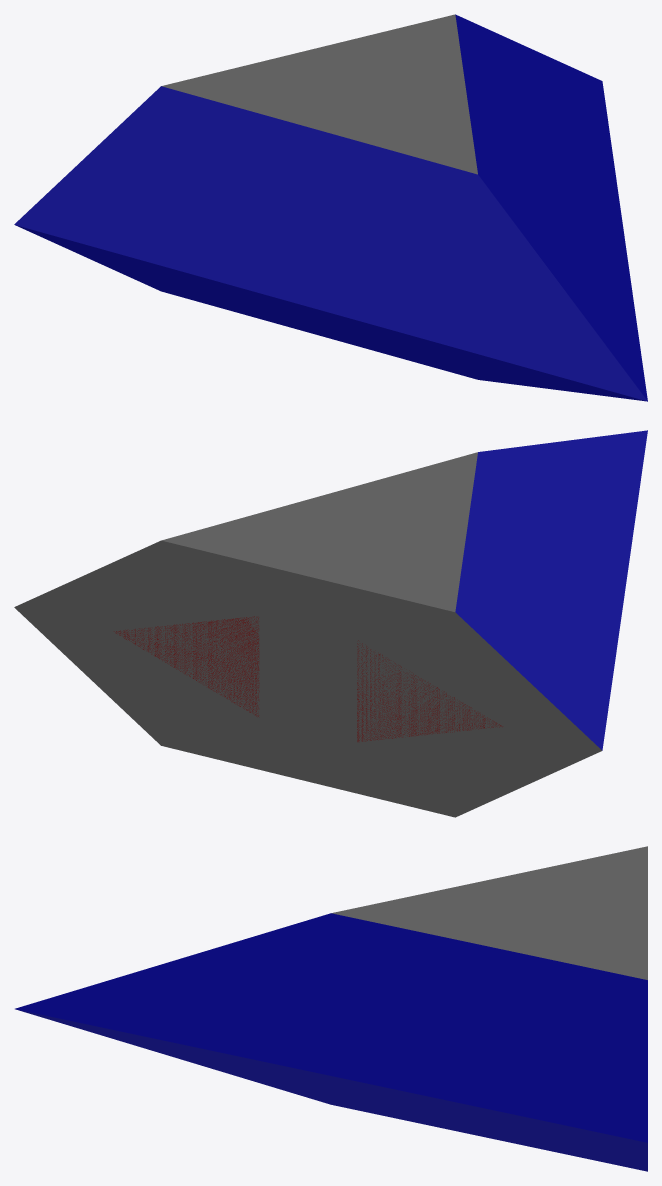
Rendered from viper.obj.
3 renders of one model, top to bottom at view 1: azimuth 30°, elevation 25°; view 2: azimuth 150°, elevation 25°; view 3: azimuth 270°, elevation 25°, orthographic. The views are drawn at different scales.
Size of the model in its own units: 96 by 32 by 96.
